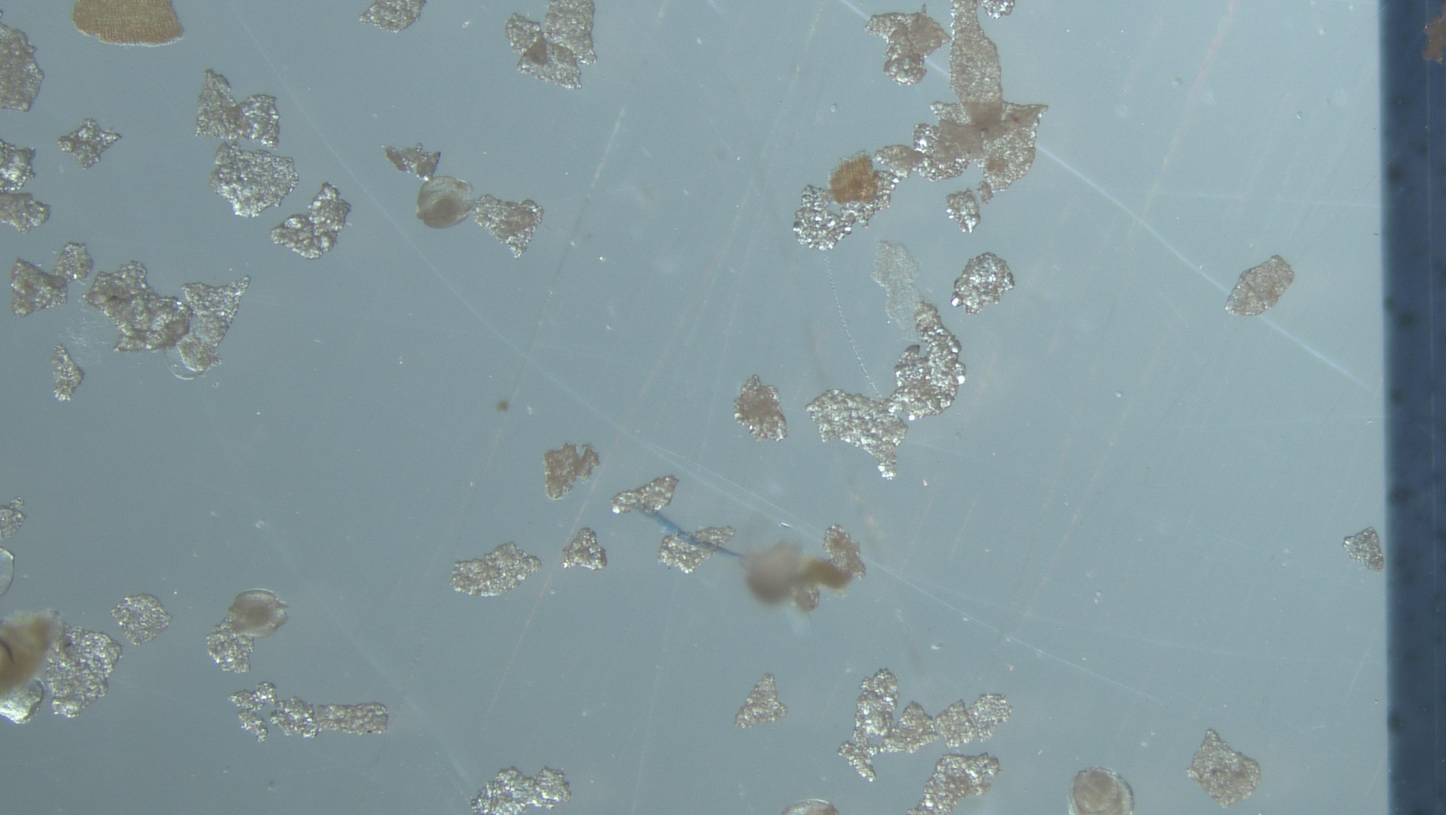dead: (0, 547, 14, 596)
live: (748, 541, 801, 605), (415, 176, 474, 229), (224, 590, 288, 638), (1069, 768, 1134, 815), (781, 799, 839, 815)
